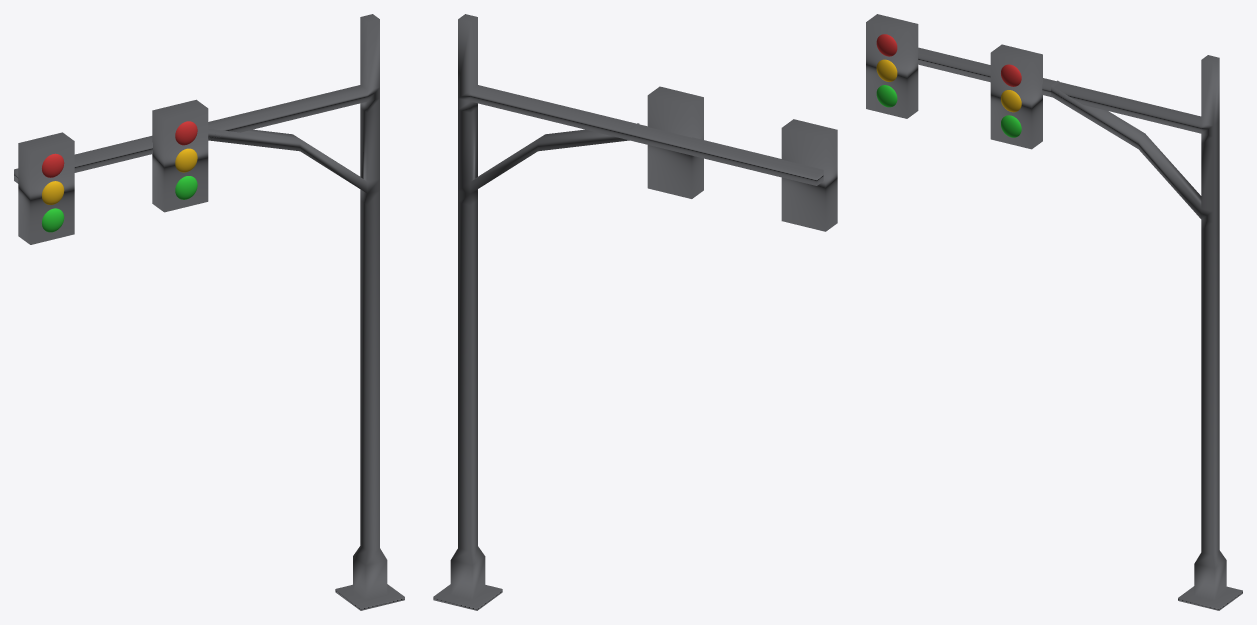
Rendered from stoplights.fbx.
3 renders of one model, left to right at view 1: azimuth 30°, elevation 25°; view 2: azimuth 150°, elevation 25°; view 3: azimuth 330°, elevation 25°, orthographic. The views are drawn at different scales.
Visible parts, largest first — view 1: pole, lights1, lights2; view 2: pole; view 3: pole, lights2, lights1.
Boxes of the visible parts, x1,y1,x2,y2 form: pole: (14,14,404,610); lights1: (175,121,197,199); lights2: (42,153,64,232); pole: (433,14,837,610); pole: (866,14,1242,610); lights2: (876,34,897,107); lights1: (1001,64,1021,137).
Bounding box in the file's own units: 1707 × 2502 × 236.
